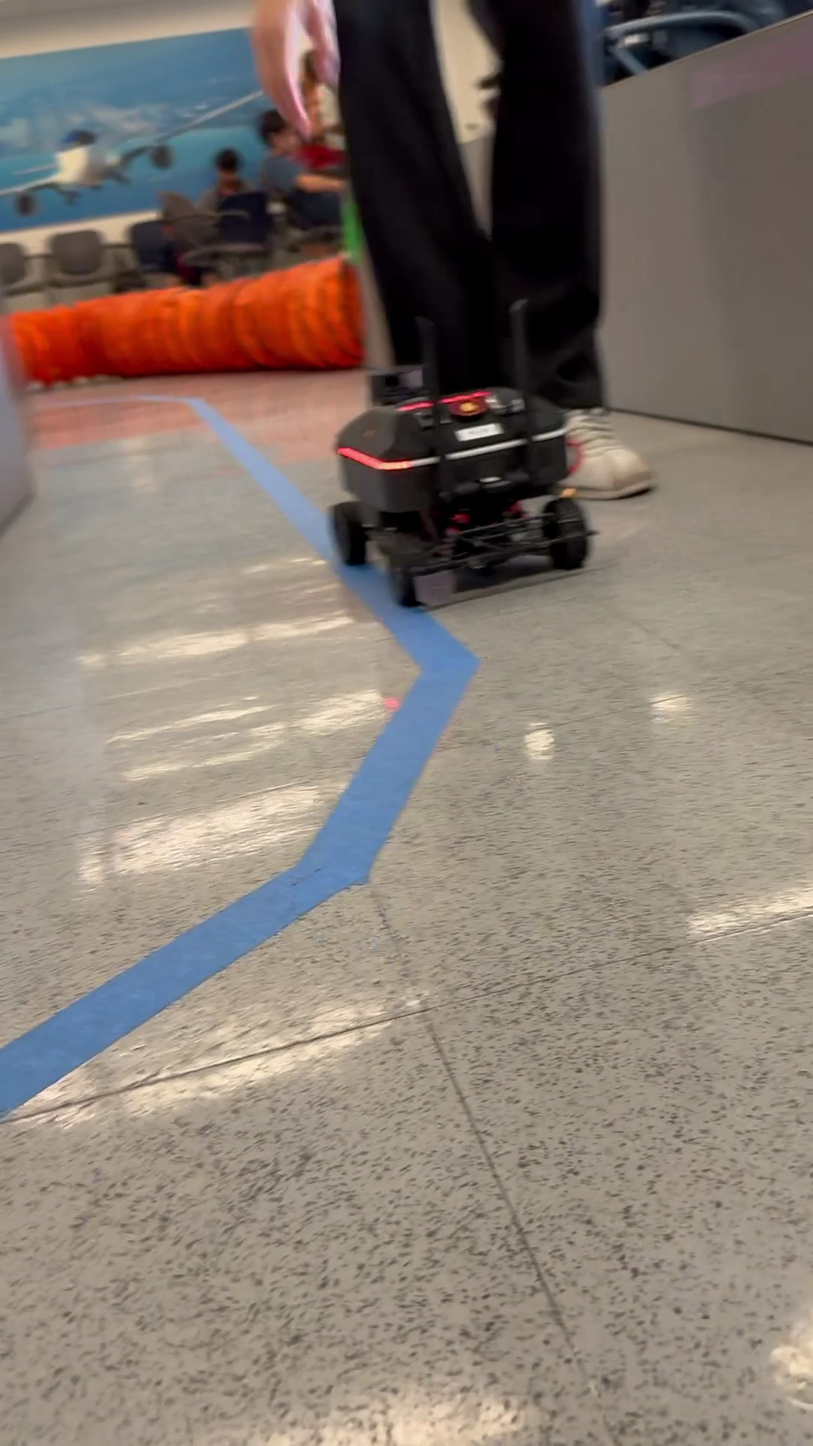racecar: (334, 369, 593, 607)
